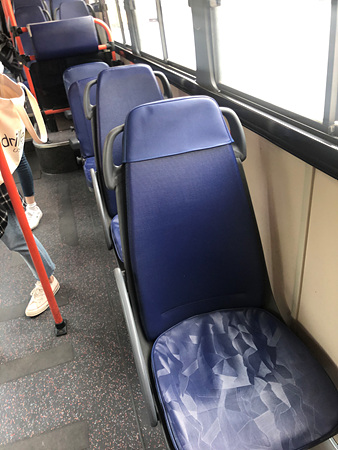seat: (118, 99, 336, 441)
